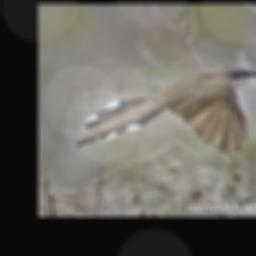Cuckoo: (76, 66, 256, 153)
